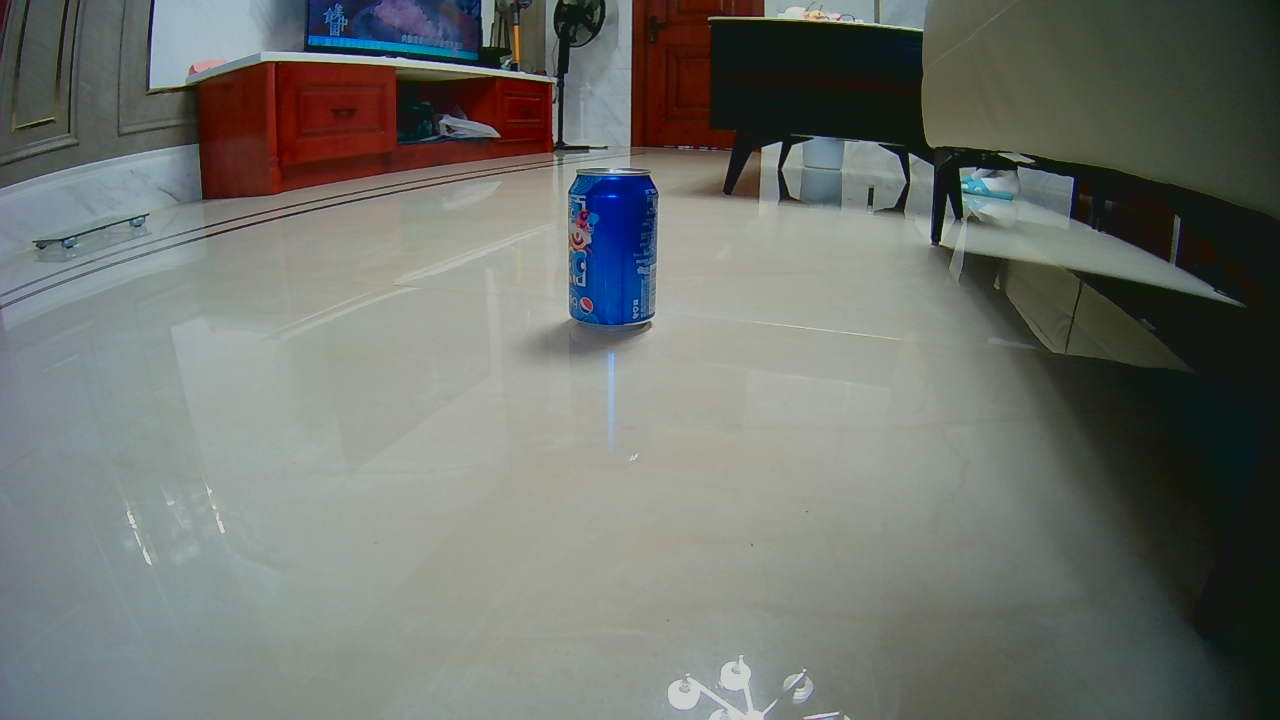pessi: (560, 170, 662, 327)
